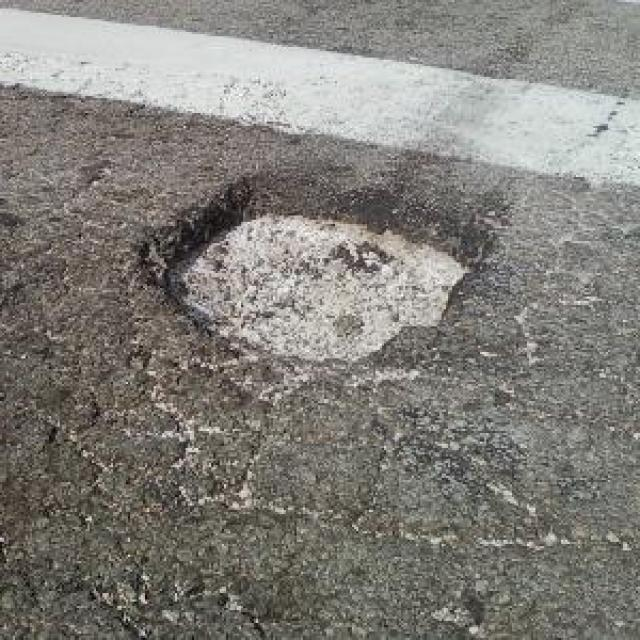pothole: (114, 155, 506, 401)
